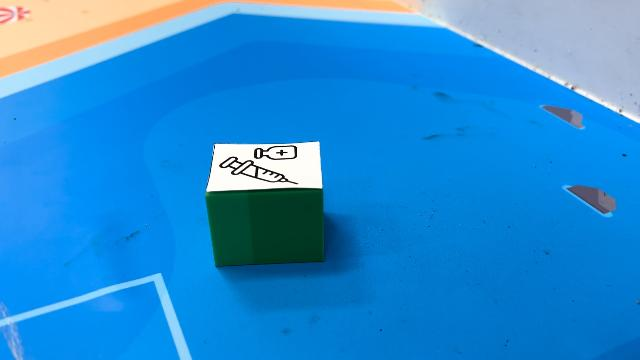syringe: (205, 141, 325, 267)
